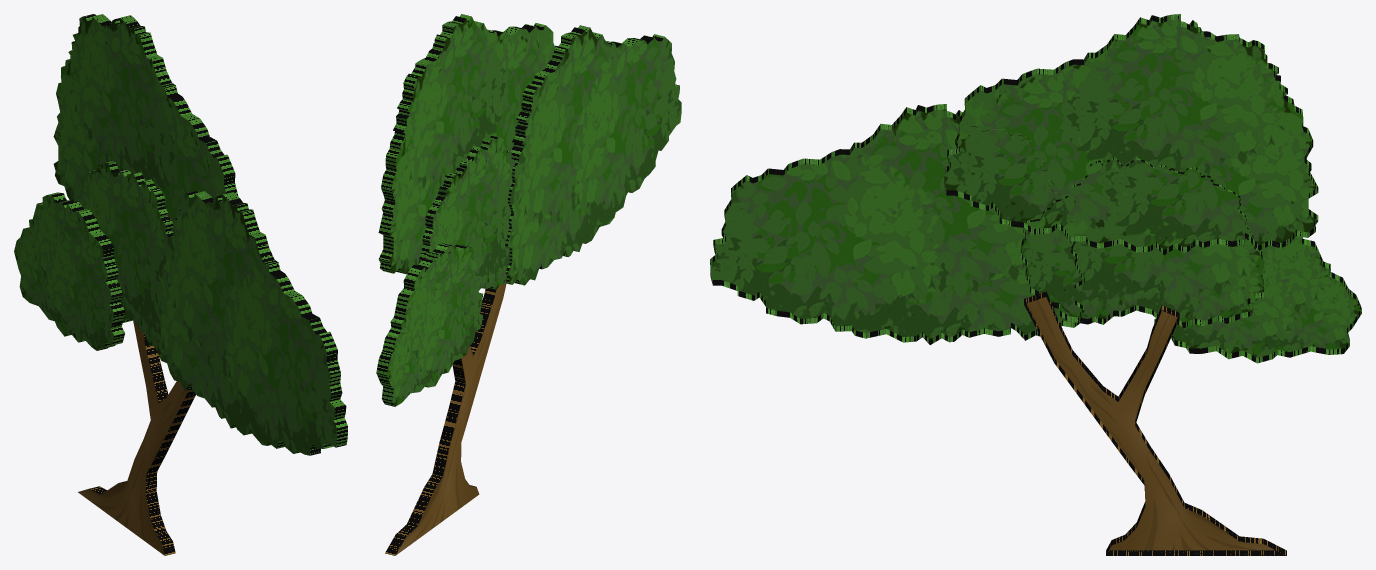
The model's file is Tree3_m.FBX.
The picture shows the model from 3 angles, left to right: view 1: azimuth 30°, elevation 25°; view 2: azimuth 150°, elevation 25°; view 3: azimuth 270°, elevation 25°; orthographic projection. The views are drawn at different scales.
Parts seen in each view (by area): view 1: Line012, Line016, Line015, Line013, Line006; view 2: Line012, Line016, Line015, Line013, Line006; view 3: Line016, Line012, Line013, Line006, Line015.
Part boxes in pixels (box(x1,y1,x2,y2)): Line012: box(156, 191, 347, 455); Line016: box(53, 14, 238, 227); Line015: box(14, 192, 124, 350); Line013: box(80, 160, 173, 350); Line006: box(78, 320, 195, 555); Line012: box(505, 25, 681, 285); Line016: box(378, 14, 555, 274); Line015: box(376, 243, 483, 406); Line013: box(418, 135, 516, 290); Line006: box(385, 283, 506, 555); Line016: box(944, 14, 1318, 254); Line012: box(710, 104, 1084, 344); Line013: box(1020, 157, 1264, 327); Line006: box(1024, 291, 1286, 555); Line015: box(1154, 236, 1361, 363).
Bounding box in the file's own units: 20.96 × 269 × 299.
